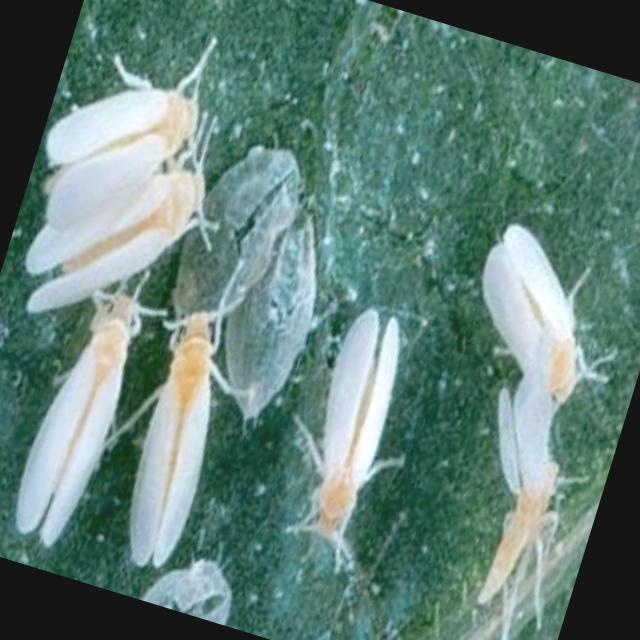Silverleaf whitefly: (0, 0, 274, 342), (230, 279, 458, 612), (76, 273, 280, 598), (403, 366, 627, 640), (0, 253, 170, 557), (429, 178, 640, 408)
